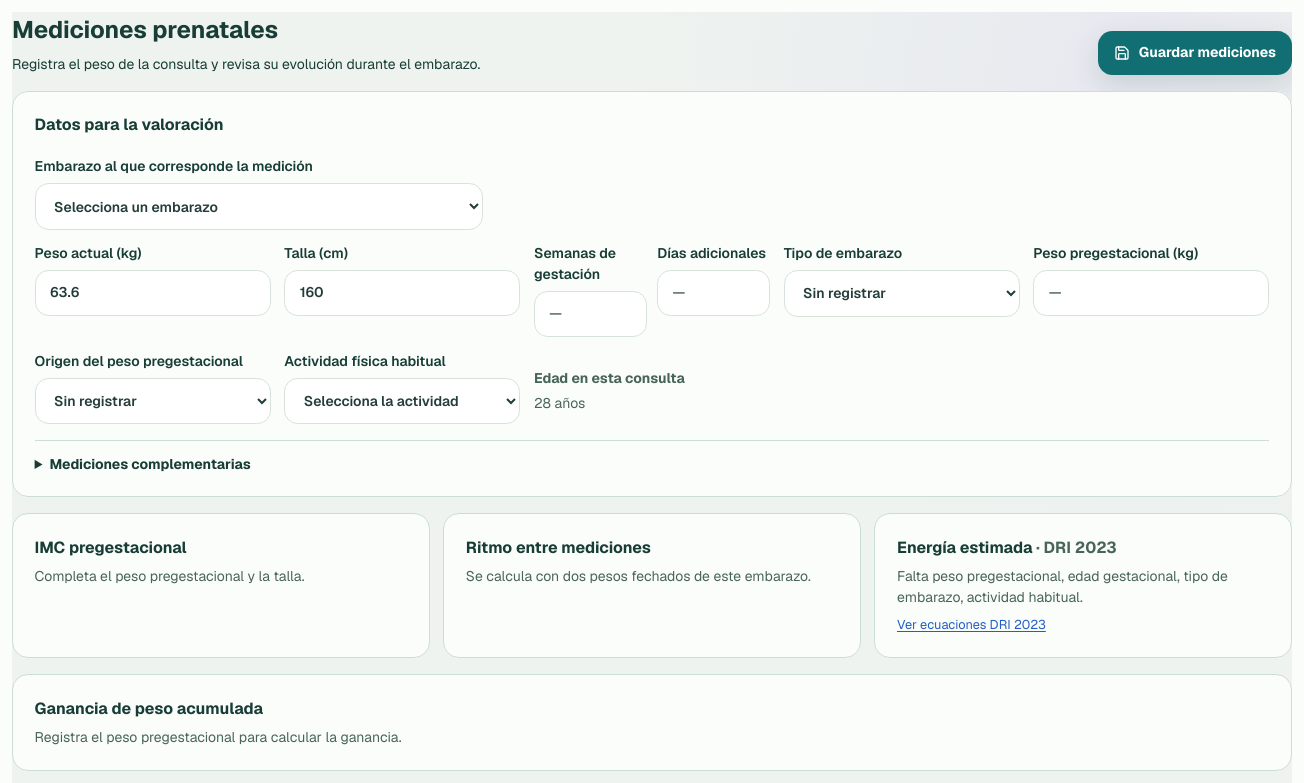
Scenario: private prenatal workspace › uses history only from the chosen pregnancy and calculates the rate between visits
The width and height of the screenshot is (1304, 783).
Select "Registro del 30 oct 2026" in the dropdown labelled "Embarazo al que corresponde la medición" at (259, 207), box [35,183,483,230]
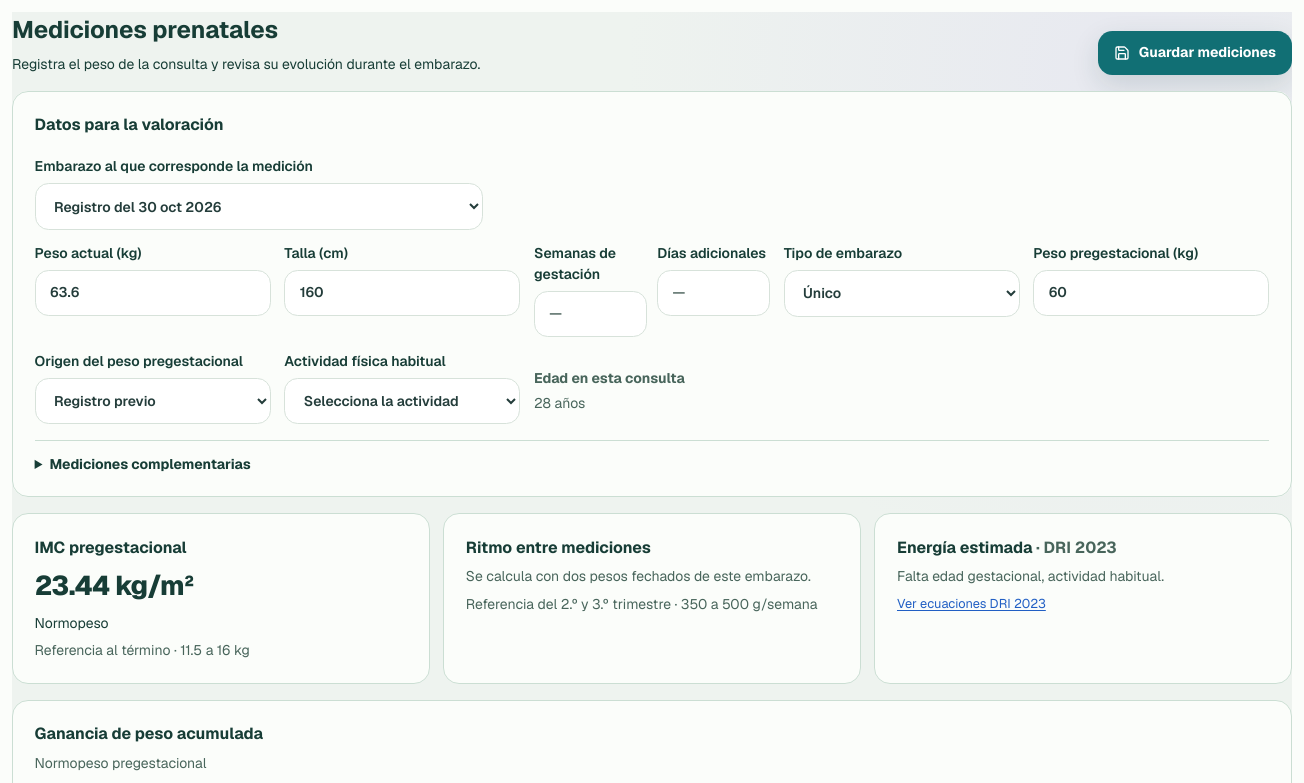
Type "18" into the field labelled "Semanas de gestación" at (590, 314), box [534,291,647,337]
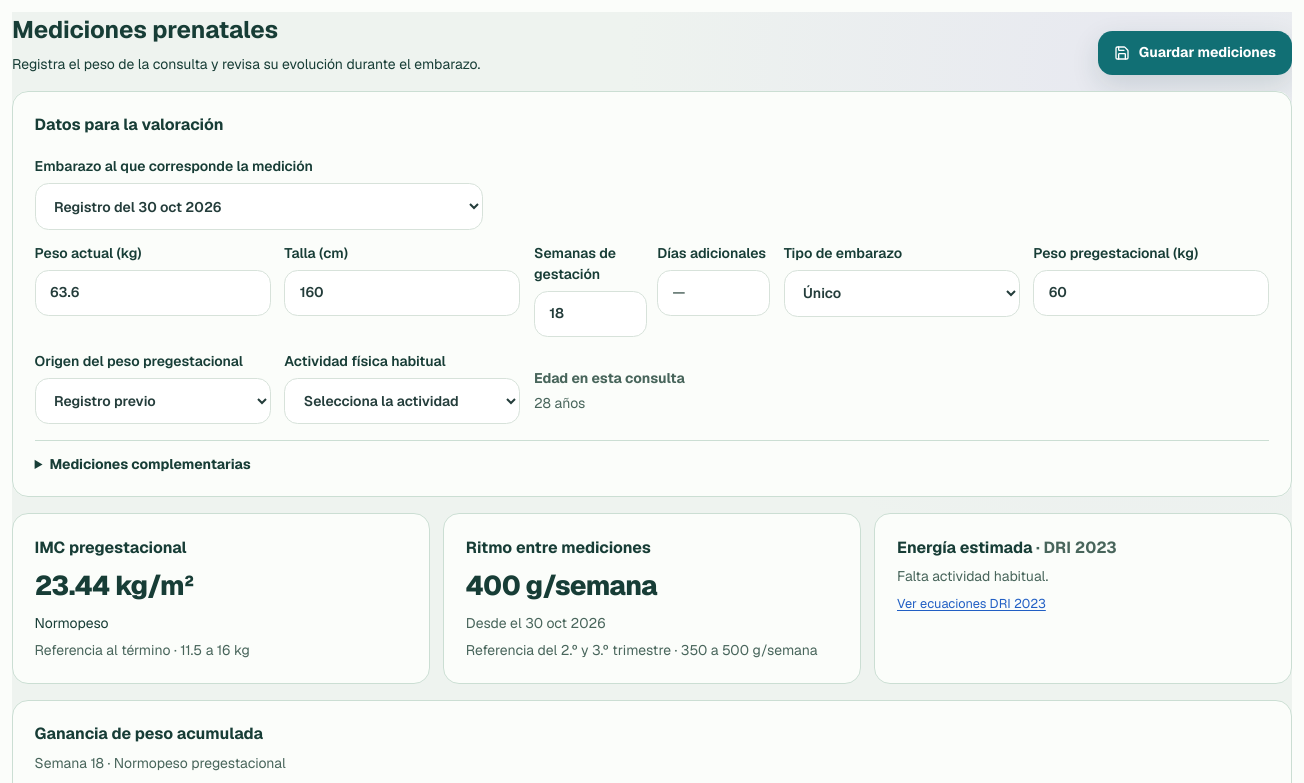
Expected: the field labelled "Peso pregestacional (kg)" holds "60", [1033,270,1269,316]
Expected: the text "400 g/semana" is shown, [466,568,657,603]
